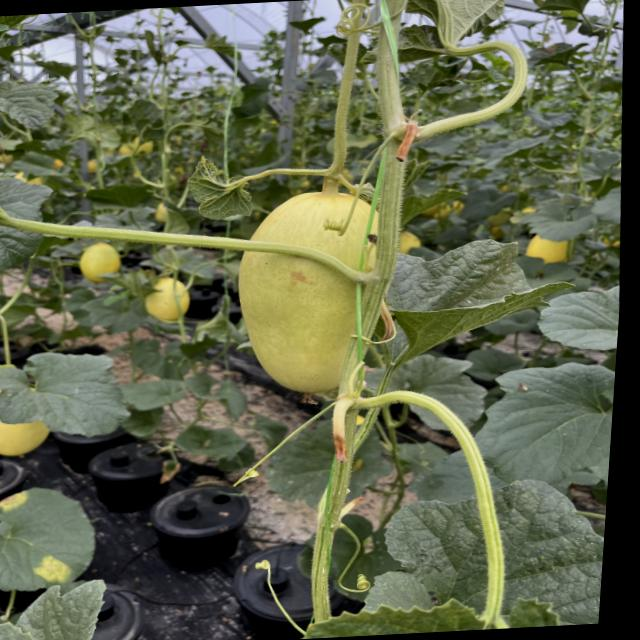SLCV: (369, 234, 600, 372)
downy mildew: (356, 471, 609, 636), (356, 228, 587, 366)
healthy: (381, 0, 512, 66), (179, 152, 262, 226)
